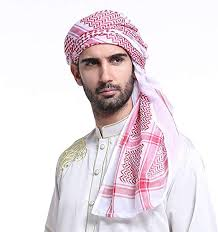middle_eastern_male: (82, 45, 138, 110)
